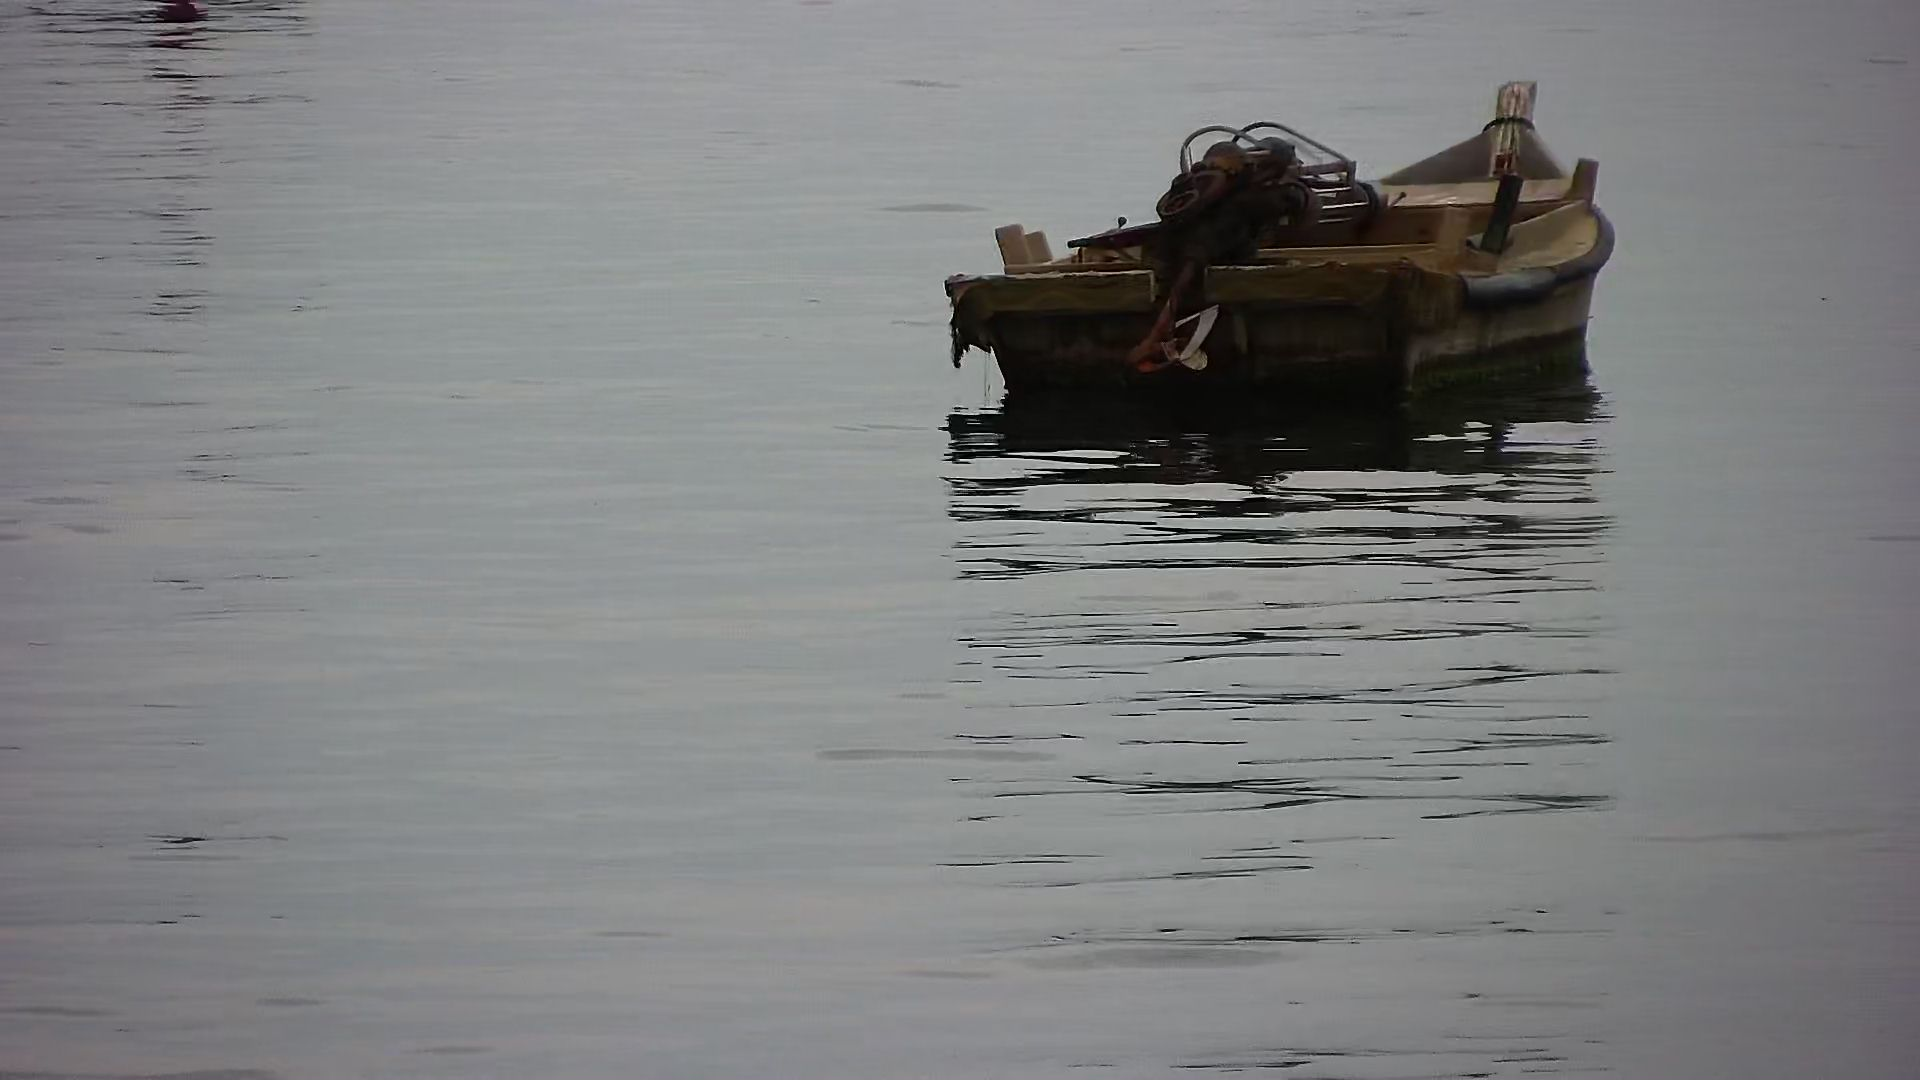boat: (927, 76, 1621, 419)
